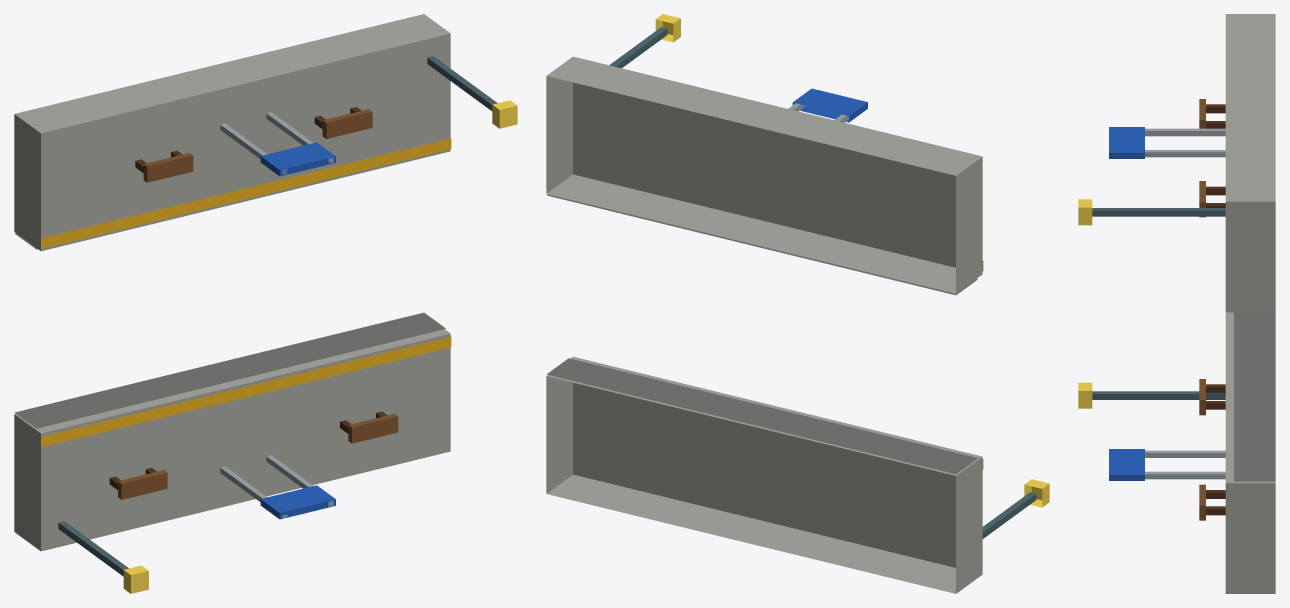
3 renders of one model, left to right at view 1: azimuth 30°, elevation 25°; view 2: azimuth 150°, elevation 25°; view 3: azimuth 270°, elevation 25°, orthographic. The views are drawn at different scales.
Parts seen in each view (by area): view 1: station_rail_platform_default; view 2: station_rail_platform_default; view 3: station_rail_platform_default.
Boxes of the visible parts, x1,y1,x2,y2 form: station_rail_platform_default: (14,14,517,593); station_rail_platform_default: (546,14,1049,593); station_rail_platform_default: (1078,14,1275,593).
Size of the model in its own units: 16 by 15.6 by 7.1.
